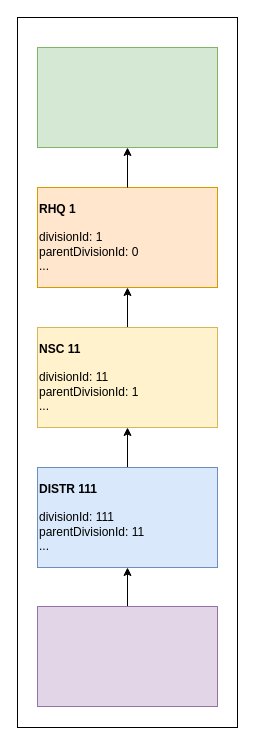
The diagram is 255 pixels wide and 745 high, and some of its shapes have lost their labels. Here are the shapes that lost their labels. From the top down, the centre of each, then its label:
point 127,97: HQ 0 divisionId: 0 parentDivisionId: 0 ...
point 127,656: DEALER 1111 divisionId: 1111 parentDivisionId: 111 ...
